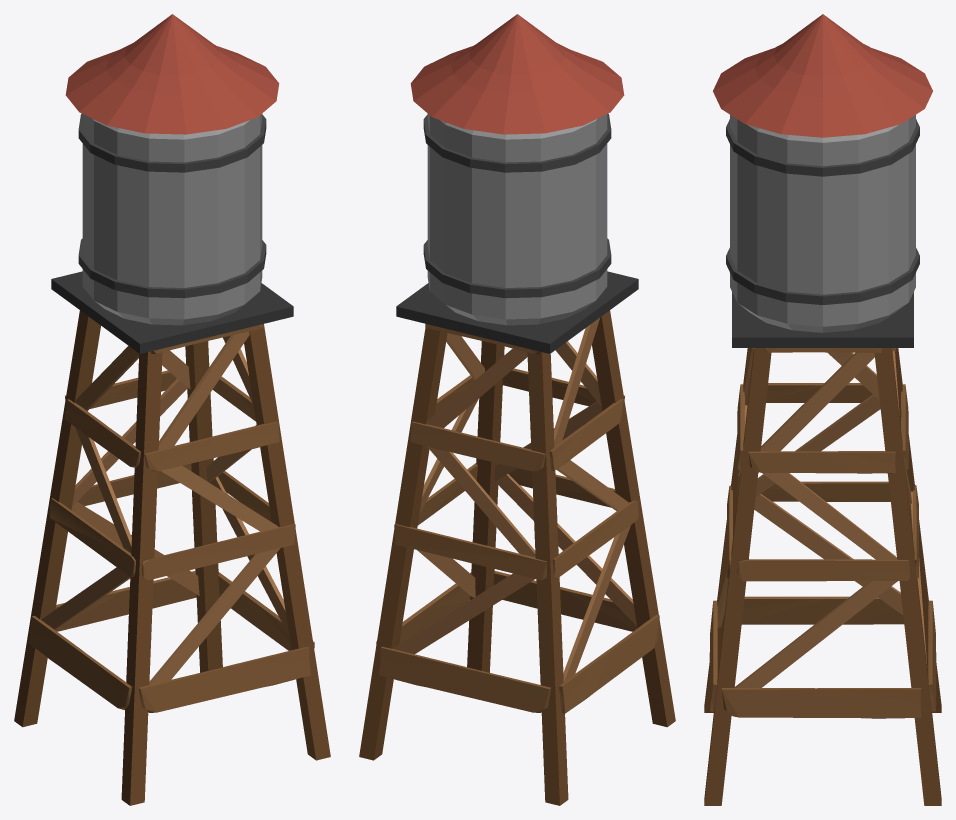
The model's file is WaterBarrel_01.fbx.
3 views of the same model, side by side, from view 1: azimuth 30°, elevation 25°; view 2: azimuth 150°, elevation 25°; view 3: azimuth 270°, elevation 25° (orthographic). The views are drawn at different scales.
Parts seen in each view (by area): view 1: WaterBarrel_01; view 2: WaterBarrel_01; view 3: WaterBarrel_01.
Boxes of the visible parts, left/top/right/bottom form: WaterBarrel_01: left=14, top=14, right=330, bottom=805; WaterBarrel_01: left=359, top=14, right=675, bottom=805; WaterBarrel_01: left=704, top=14, right=941, bottom=805.
Size of the model in its own units: 205 by 707 by 205.
